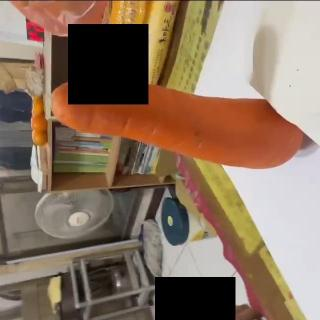carrot: (50, 78, 308, 170)
